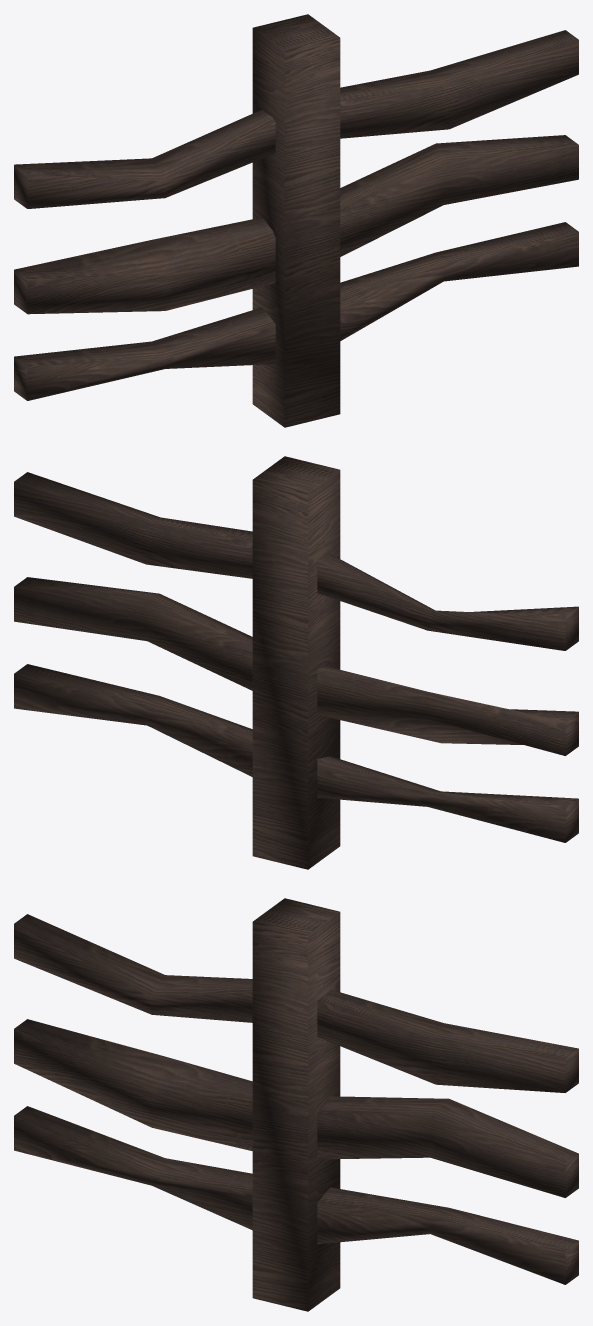
The picture shows the model from 3 angles, top to bottom: view 1: azimuth 30°, elevation 25°; view 2: azimuth 150°, elevation 25°; view 3: azimuth 330°, elevation 25°; orthographic projection.
Parts seen in each view (by area): view 1: Cube173_Wood_02003_0; view 2: Cube173_Wood_02003_0; view 3: Cube173_Wood_02003_0.
Part boxes in pixels (x1,y1,x2,y2): Cube173_Wood_02003_0: [14, 14, 578, 427]; Cube173_Wood_02003_0: [14, 456, 578, 869]; Cube173_Wood_02003_0: [14, 898, 578, 1311].
Size of the model in its own units: 1.99 by 1.3 by 0.2.
Materials: 1 (1 with a texture image).
